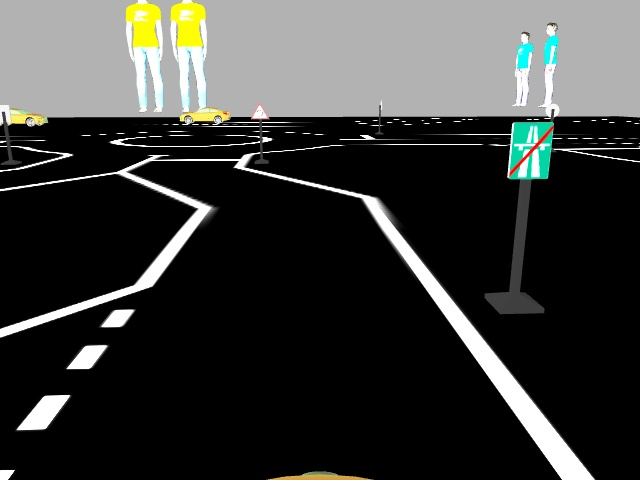HighwayExit: (506, 121, 551, 179)
